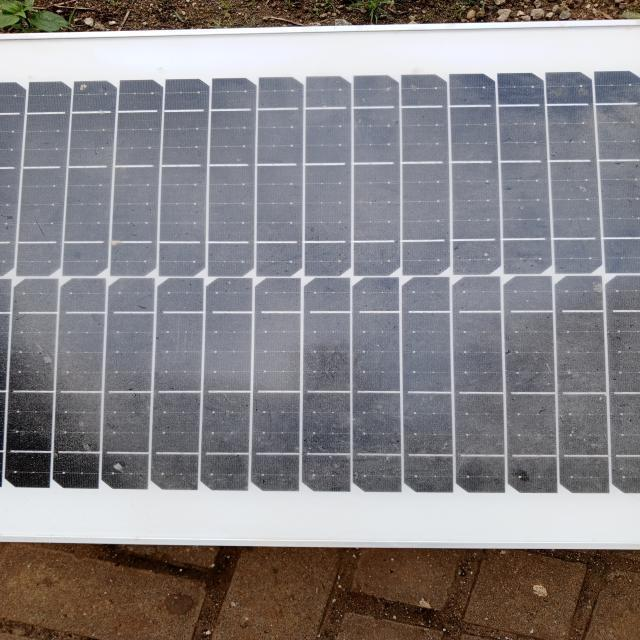Surface Contaminant: (22, 54, 639, 508)
